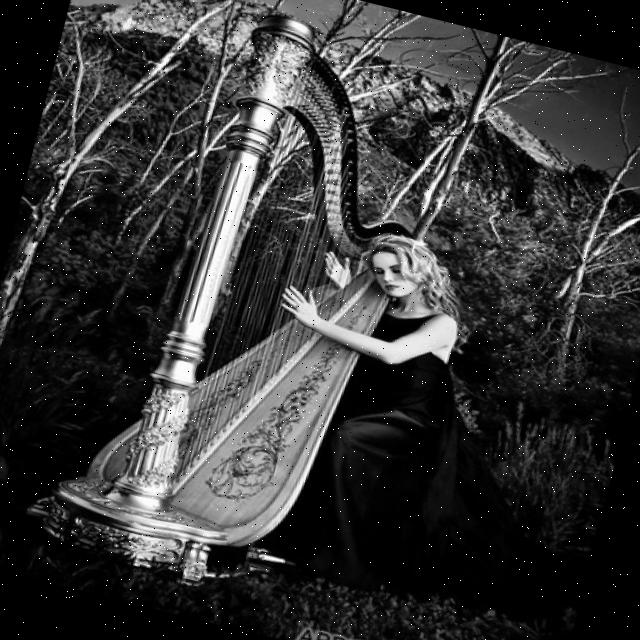harp: (24, 0, 465, 611)
